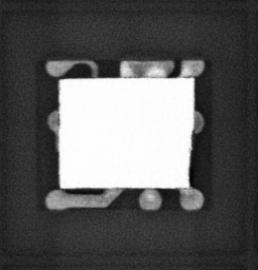DIE_BROKEN: (186, 129, 196, 188)
